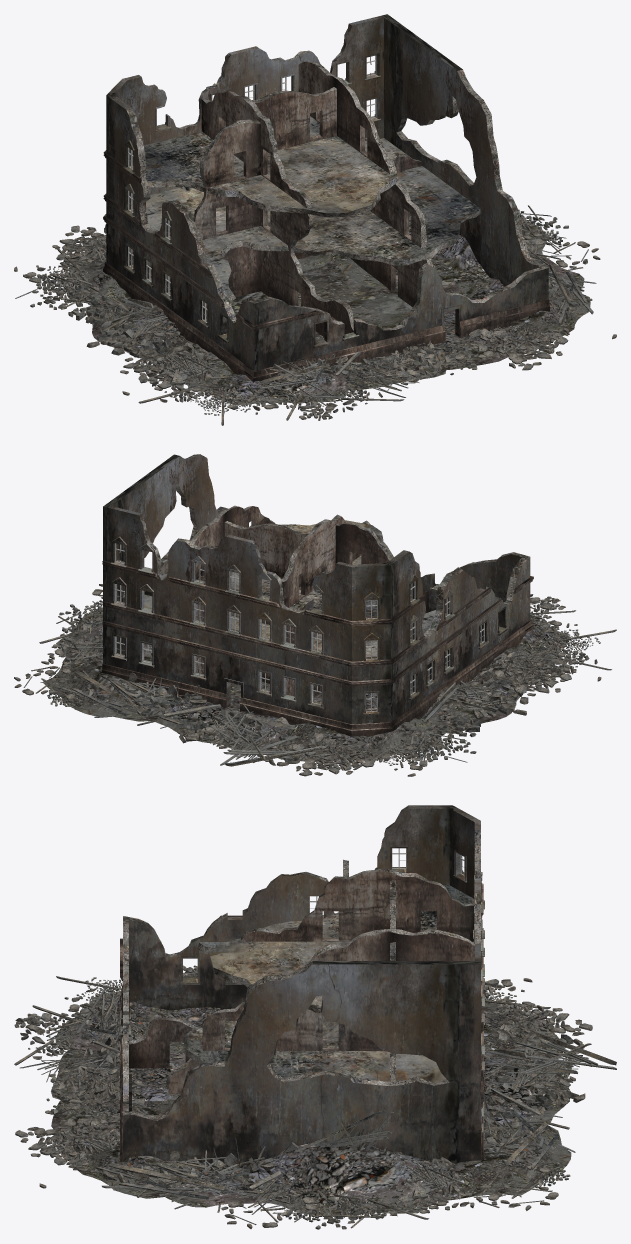
Rendered from Small Red Building.fbx.
3 renders of one model, top to bottom at view 1: azimuth 30°, elevation 25°; view 2: azimuth 150°, elevation 25°; view 3: azimuth 270°, elevation 25°, orthographic. The views are drawn at different scales.
Parts seen in each view (by area): view 1: rBLow36_wall, rBLow36_floor, rBLow36_Pa, rBLow36_Ra, rBLow36_wallEl, rBLow36_Rb, rBLow36_Pb, rBLow36_wallEdg, rBLow36_Pc, rRubc.010, rBLow36_Ground, rBLow36_PaEdg (+14 smaller); view 2: rBLow36_wall, rBLow36_wallEl, rBLow36_windEl, rBLow36_Pa, rBLow36_Ra, rBLow36_Rb, rRubc01.003, rRube01.003, rRubc.010, rBLow36_Rc, rRubd.005, rBLow36_wallEdg (+14 smaller); view 3: rBLow36_wall, rBLow36_Pa, rBLow36_Ra, rBLow36_floor, rBLow36_Rb, rRubc01.003, rBLow36_Rc, rRube.014, rBLow36_wallEdg, rRubf.005, rRube01.003, rRubb.010 (+15 smaller).
Boxes of the visible parts, left/top/right/bottom form: rBLow36_wall: left=106, top=14, right=548, bottom=370; rBLow36_floor: left=144, top=116, right=480, bottom=296; rBLow36_Pa: left=201, top=61, right=427, bottom=336; rBLow36_Ra: left=66, top=221, right=590, bottom=392; rBLow36_wallEl: left=103, top=150, right=549, bottom=382; rBLow36_Rb: left=85, top=254, right=584, bottom=405; rBLow36_Pb: left=194, top=122, right=260, bottom=297; rBLow36_wallEdg: left=126, top=24, right=548, bottom=330; rBLow36_Pc: left=255, top=89, right=422, bottom=259; rRubc.010: left=56, top=291, right=189, bottom=357; rBLow36_Ground: left=230, top=263, right=412, bottom=339; rBLow36_PaEdg: left=193, top=61, right=433, bottom=330; rBLow36_wall: left=103, top=454, right=530, bottom=724; rBLow36_wallEl: left=101, top=560, right=533, bottom=736; rBLow36_windEl: left=111, top=537, right=507, bottom=715; rBLow36_Pa: left=194, top=506, right=428, bottom=697; rBLow36_Ra: left=56, top=610, right=558, bottom=761; rBLow36_Rb: left=155, top=614, right=569, bottom=750; rRubc01.003: left=177, top=705, right=320, bottom=766; rRube01.003: left=61, top=670, right=228, bottom=736; rRubc.010: left=374, top=676, right=528, bottom=750; rBLow36_Rc: left=42, top=651, right=181, bottom=721; rRubd.005: left=480, top=647, right=601, bottom=696; rBLow36_wallEdg: left=123, top=454, right=529, bottom=638; rBLow36_wall: left=123, top=805, right=480, bottom=1166; rBLow36_Pa: left=129, top=871, right=474, bottom=1094; rBLow36_Ra: left=51, top=1002, right=565, bottom=1216; rBLow36_floor: left=184, top=885, right=473, bottom=1082; rBLow36_Rb: left=51, top=992, right=571, bottom=1207; rRubc01.003: left=484, top=1027, right=616, bottom=1110; rBLow36_Rc: left=424, top=1120, right=571, bottom=1200; rRube.014: left=90, top=1137, right=281, bottom=1209; rBLow36_wallEdg: left=123, top=805, right=480, bottom=1120; rRubf.005: left=15, top=1110, right=119, bottom=1188; rRube01.003: left=483, top=1087, right=575, bottom=1182; rRubb.010: left=20, top=1051, right=183, bottom=1106.
Bounding box in the file's own units: 4257 × 1529 × 3963.
